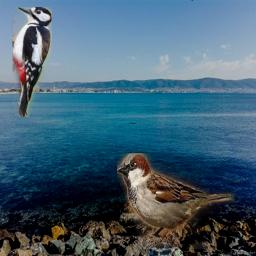Sparrow: (117, 153, 235, 249)
Woodpecker: (12, 7, 52, 117)
